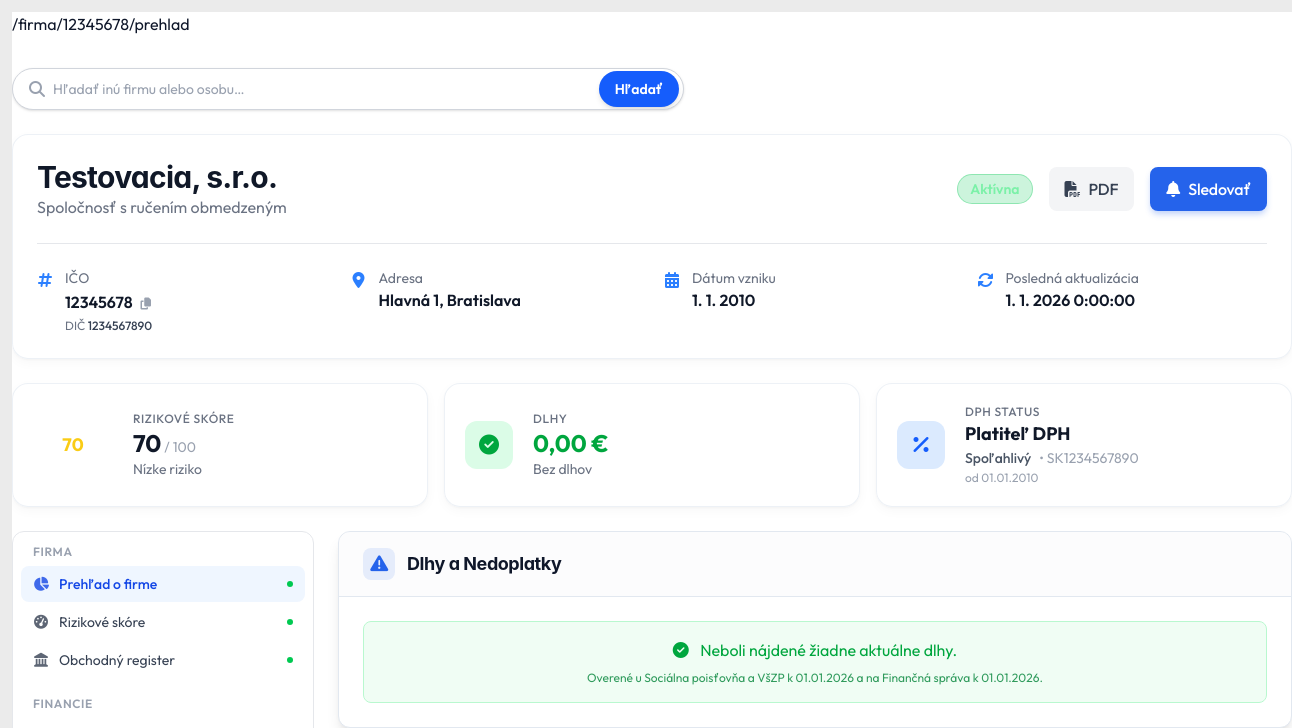
Test: Company page › finds the next firm from the firm page itself, without going back
Expected: the heading "Testovacia, s.r.o." is shown, [37,159,287,195]
In the field named "Hľadať firmu alebo osobu": (368, 89) [53,69,683,109], type "87654321"
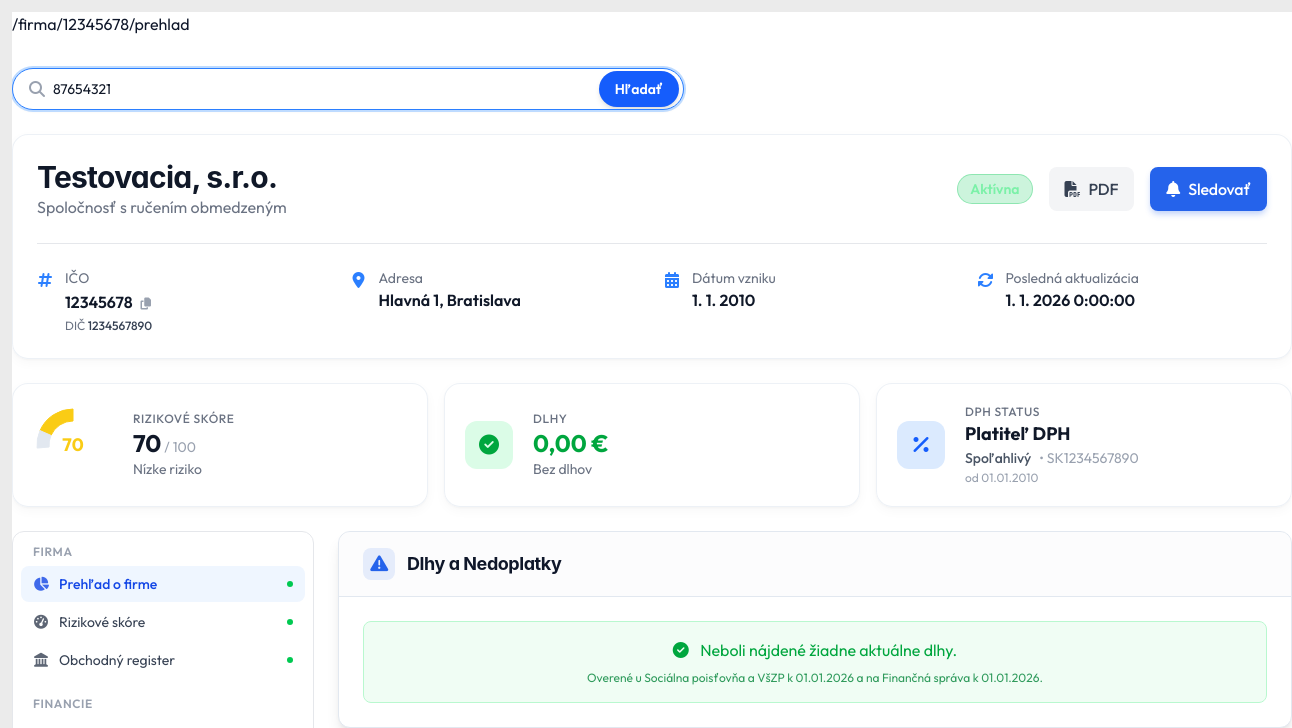
Click the button "Hľadať": (639, 89) [599,71,679,107]
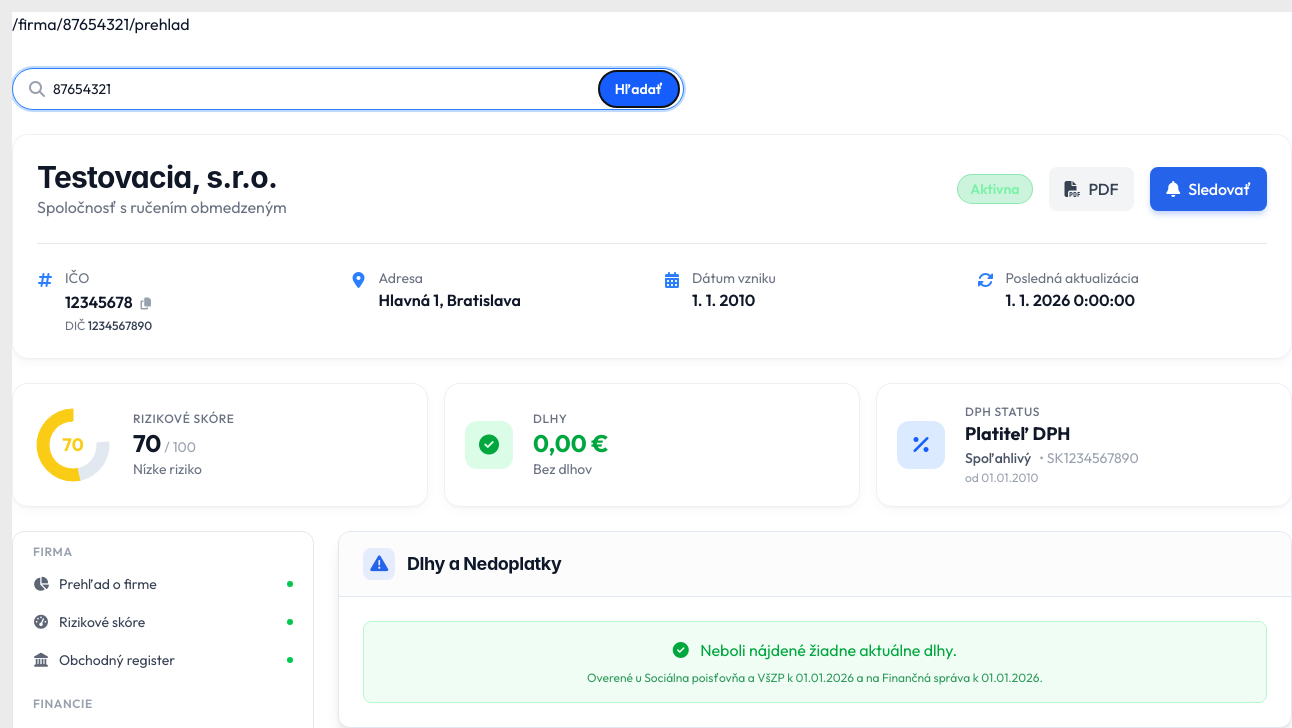
Expected: the text with test id "location" reads "/firma/87654321/prehlad", [12,14,190,34]
